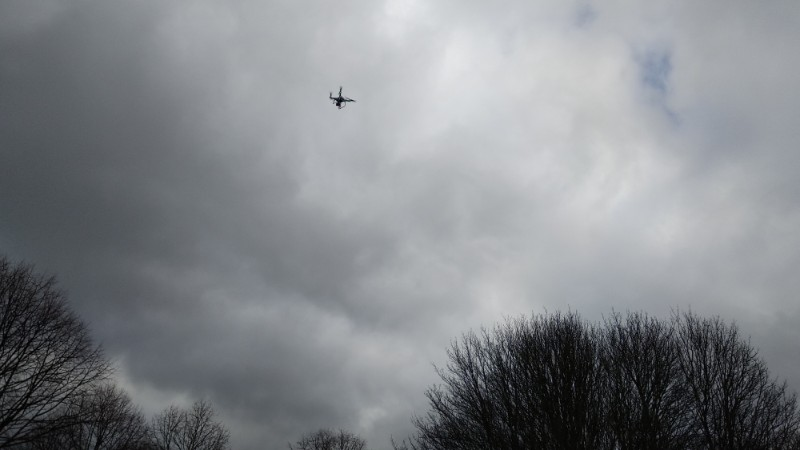drone: (328, 87, 355, 109)
